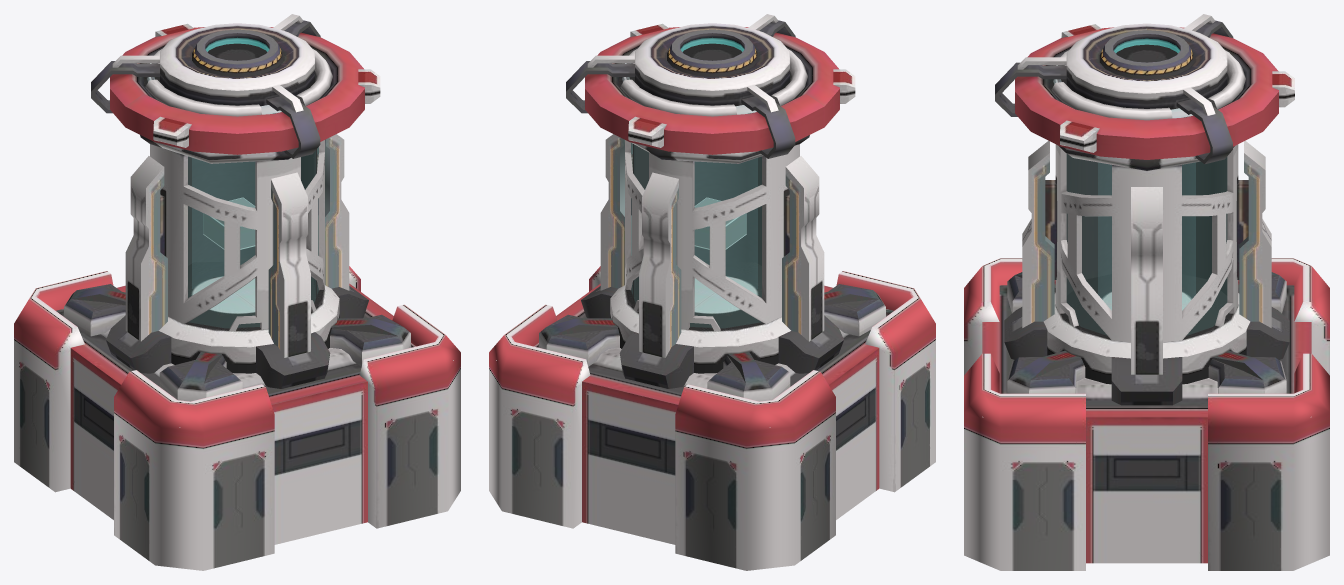
3 views of the same model, side by side, from view 1: azimuth 30°, elevation 25°; view 2: azimuth 150°, elevation 25°; view 3: azimuth 270°, elevation 25° (orthographic). The views are drawn at different scales.
Parts seen in each view (by area): view 1: smelter-2; view 2: smelter-2; view 3: smelter-2.
Boxes of the visible parts, x1=… form: smelter-2: x1=14, y1=14, x2=460, y2=570; smelter-2: x1=489, y1=14, x2=935, y2=570; smelter-2: x1=964, y1=14, x2=1329, y2=570.
Bounding box in the file's own units: 3 × 4.03 × 3.
3 materials, 3 textured.
